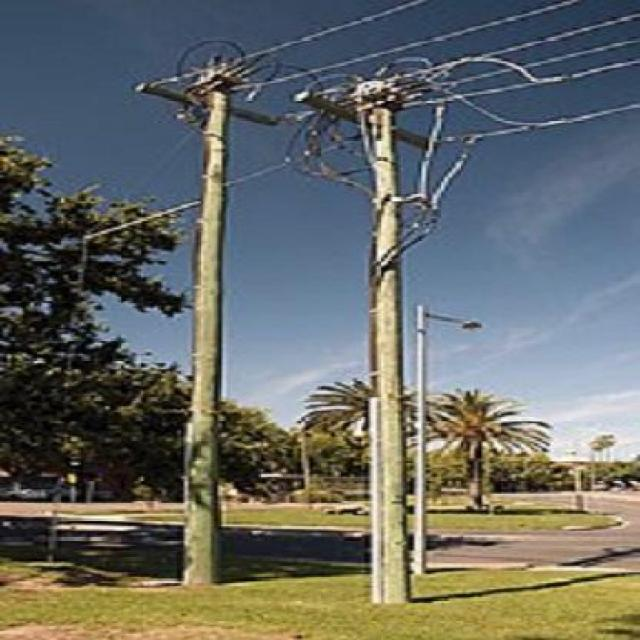pole: (298, 67, 442, 598), (134, 44, 268, 578)
